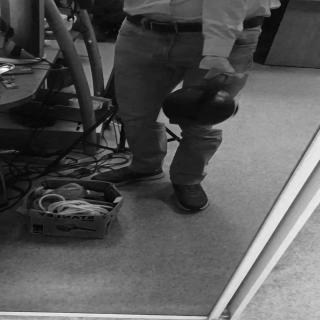kettlebell: (162, 68, 245, 130)
